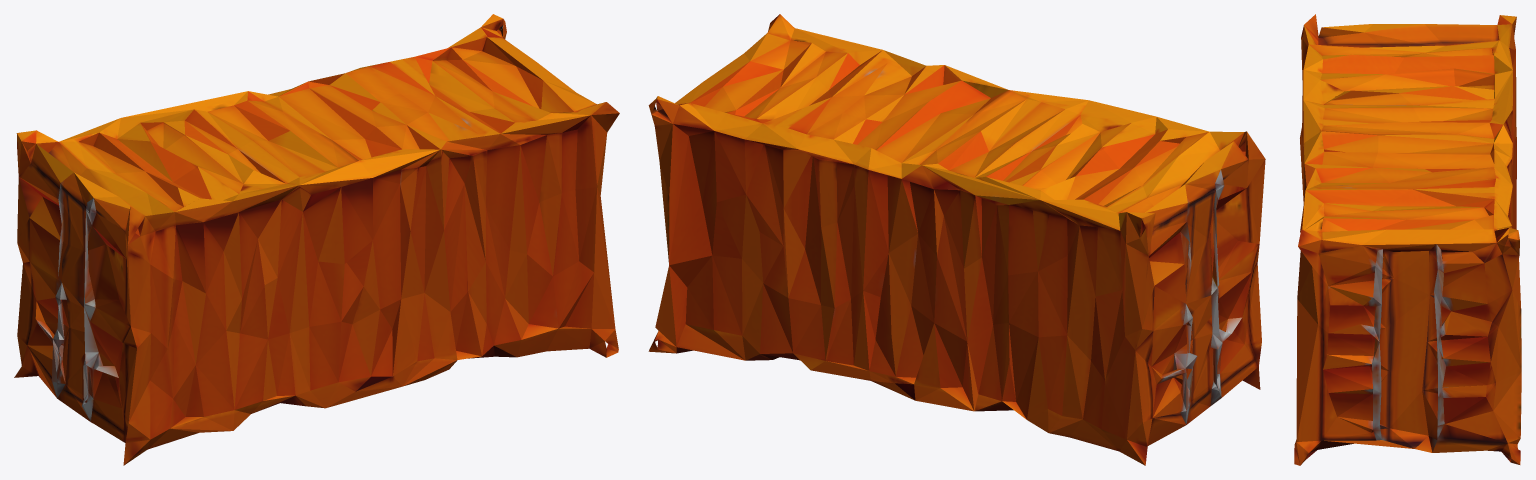
Rendered from shipping_container.glb.
3 renders of one model, left to right at view 1: azimuth 30°, elevation 25°; view 2: azimuth 150°, elevation 25°; view 3: azimuth 270°, elevation 25°, orthographic. The views are drawn at different scales.
Parts seen in each view (by area): view 1: geometry_0; view 2: geometry_0; view 3: geometry_0.
Boxes of the visible parts, x1,y1,x2,y2 form: geometry_0: [14, 14, 619, 465]; geometry_0: [648, 14, 1265, 465]; geometry_0: [1294, 14, 1521, 465].
Size of the model in its own units: 0.9883 by 0.4932 by 0.4286.
Materials: 1 (1 with a texture image).
